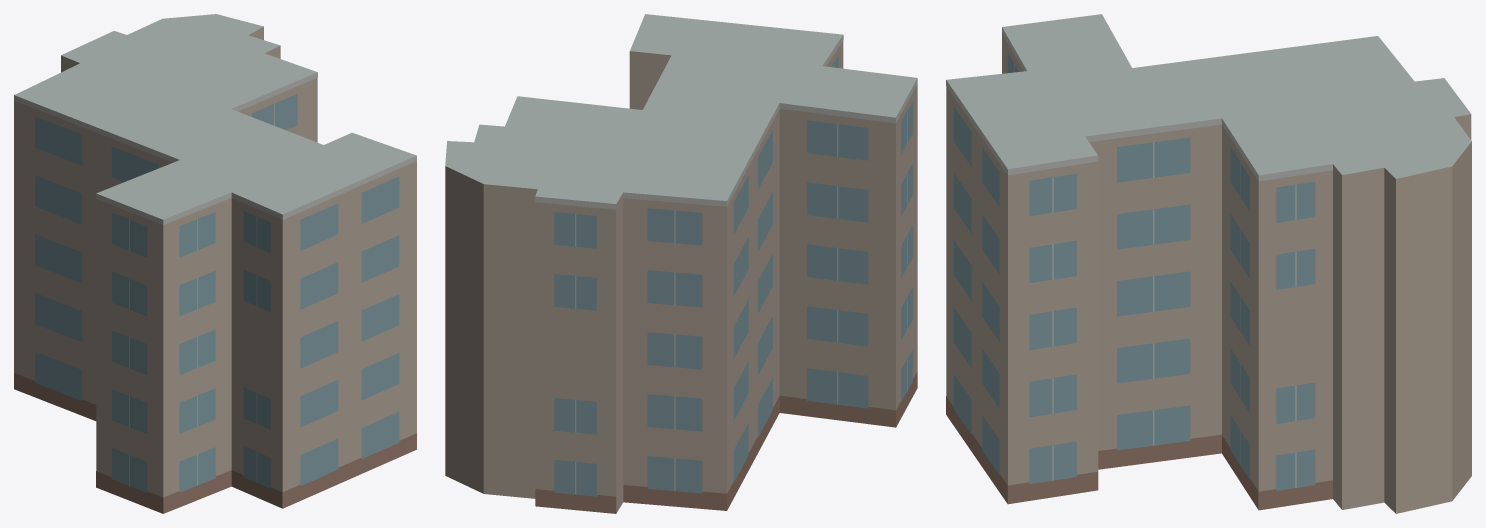
The model's file is survey-upis-33038824.glb.
The picture shows the model from 3 angles, left to right: view 1: azimuth 30°, elevation 25°; view 2: azimuth 150°, elevation 25°; view 3: azimuth 270°, elevation 25°; orthographic projection. The views are drawn at different scales.
Visible parts, largest first — view 1: survey-upis-33038824.tmp; view 2: survey-upis-33038824.tmp; view 3: survey-upis-33038824.tmp.
Boxes of the visible parts, box(x1,y1,x2,y2) form: survey-upis-33038824.tmp: box(14, 14, 416, 513); survey-upis-33038824.tmp: box(445, 14, 917, 513); survey-upis-33038824.tmp: box(946, 14, 1471, 513).
Bounding box in the file's own units: 14.06 × 13.3 × 18.92.
